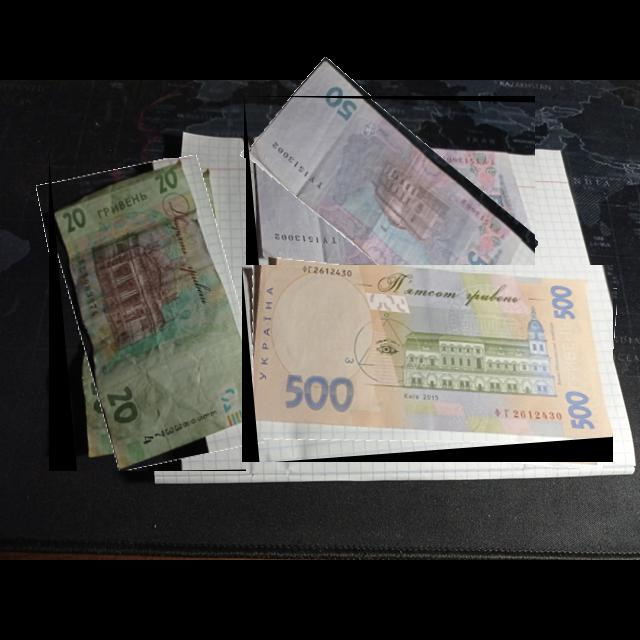20uah: (53, 158, 247, 472)
500uah: (242, 265, 614, 463)
50uah: (244, 96, 536, 302)
